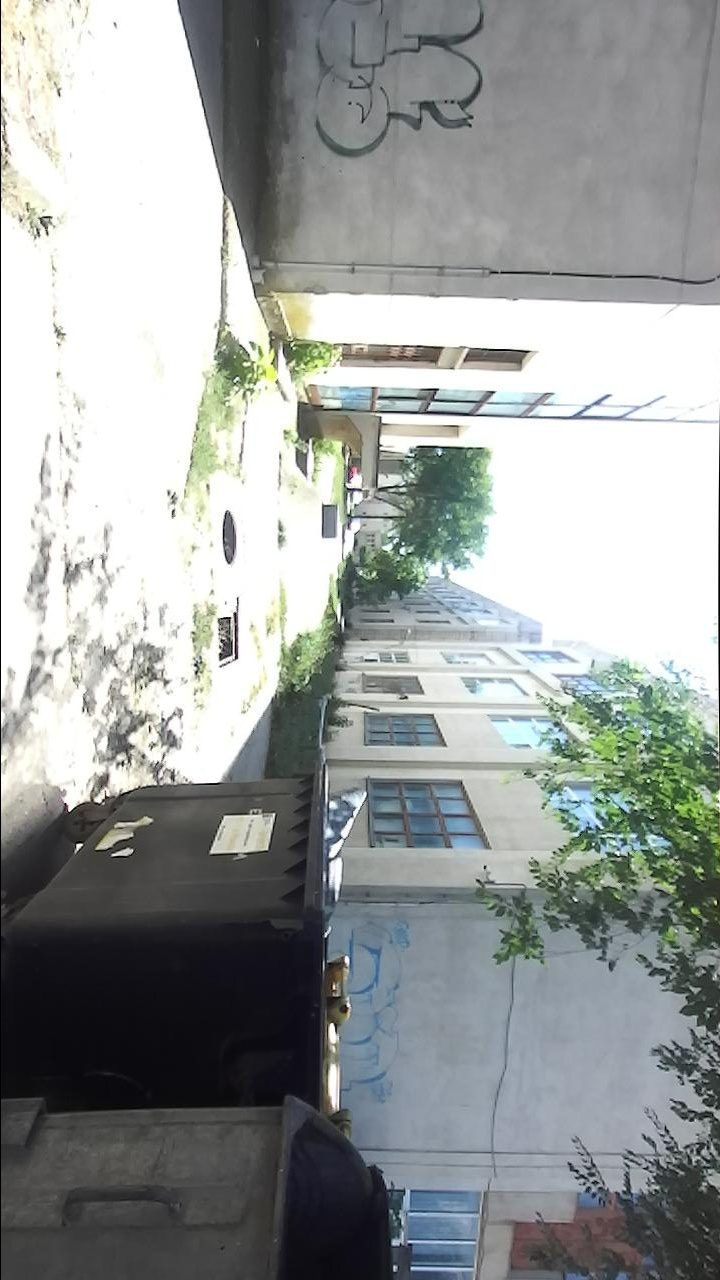drain: (212, 612, 242, 673), (214, 507, 243, 570)
